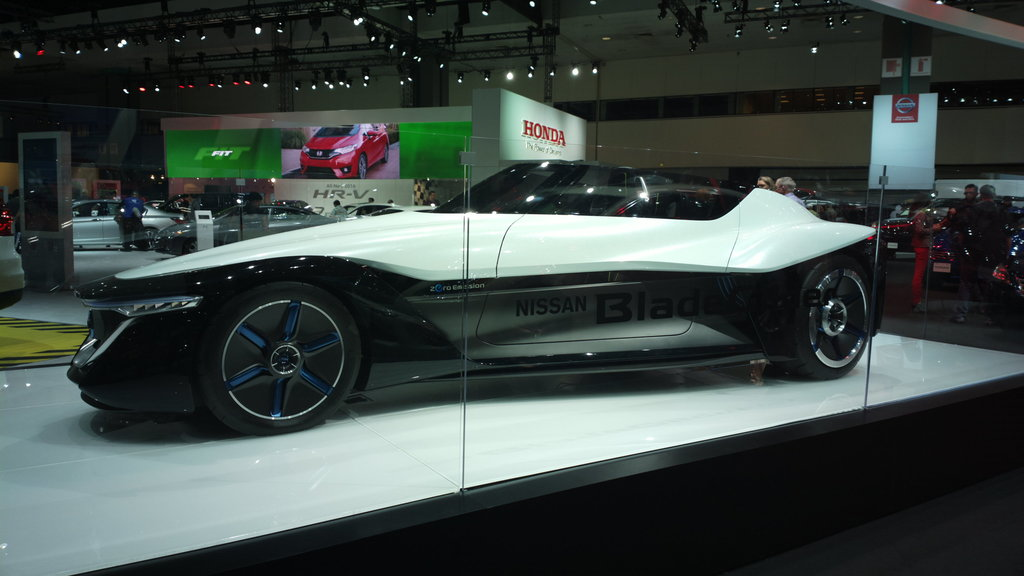Person: (3, 175, 998, 323), (116, 189, 146, 251)
